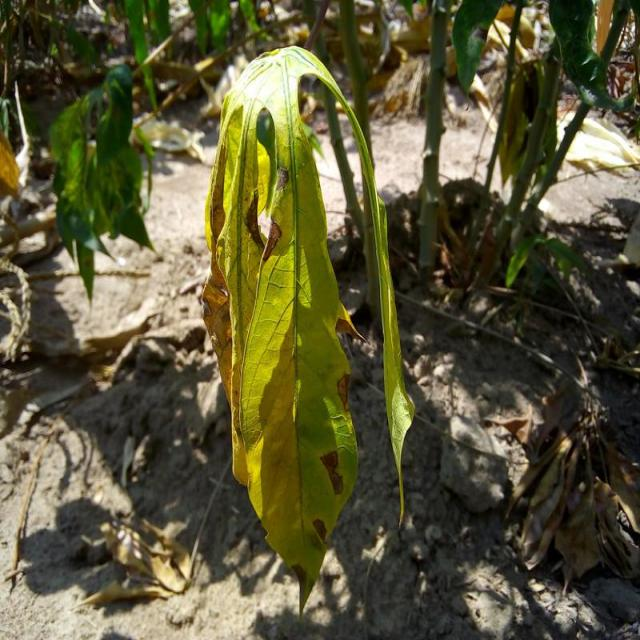cassava leaf: (200, 43, 414, 620)
